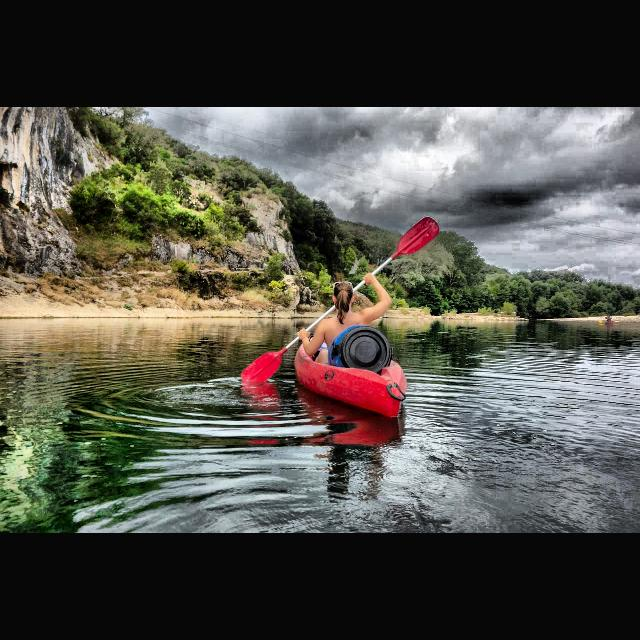kayak: (294, 326, 408, 419)
